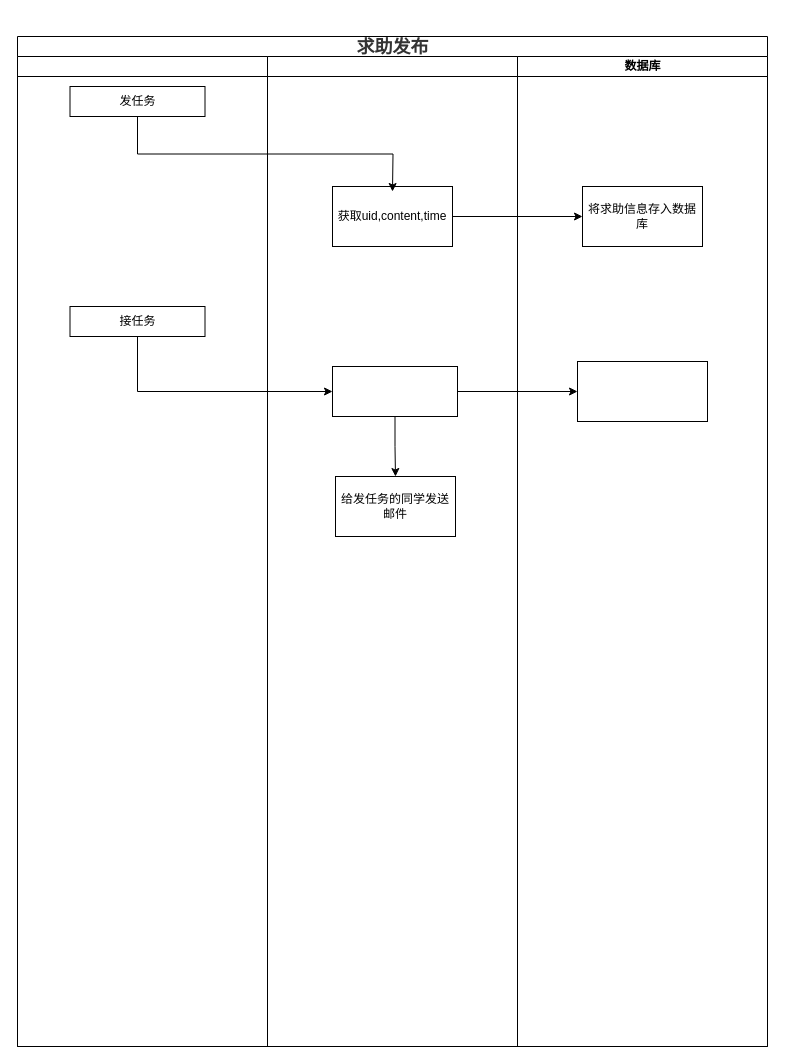
Image size: 785x1064. Some labels were removed from this diagram. Here are the shapes that lost their labels. From the top down, the box of each, then its label:
(332, 366, 458, 416): 获取发任务uid和接任务uid
(576, 360, 708, 422): 查询发任务uid的邮箱号
(16, 56, 268, 1046): 前端
(266, 56, 518, 1046): 后端
